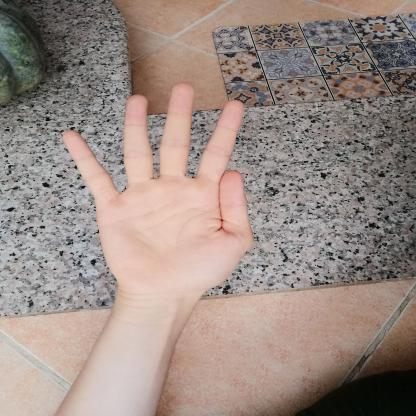SHEEN: (49, 75, 274, 308)
